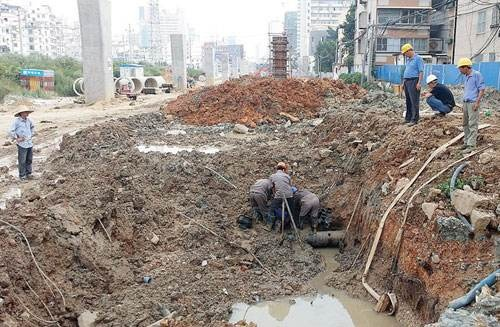white: (425, 72, 438, 89)
yellow: (457, 57, 475, 77), (400, 42, 414, 59), (276, 161, 287, 173)
